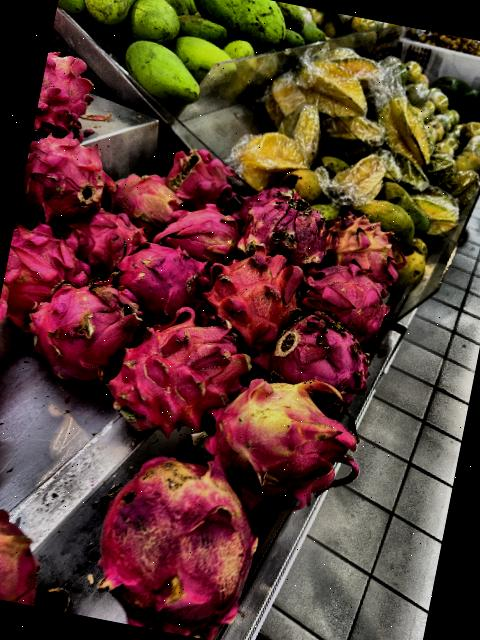buah-naga-belum-matang: (77, 442, 269, 636), (207, 360, 374, 516), (316, 213, 417, 289), (0, 482, 60, 606), (160, 204, 246, 263), (109, 166, 186, 228)
buah-naga-matang: (114, 302, 261, 436), (26, 272, 156, 406), (15, 125, 130, 234), (266, 307, 385, 409), (290, 256, 403, 346), (202, 242, 300, 342), (1, 223, 94, 310), (119, 243, 216, 314), (243, 189, 328, 263), (33, 51, 100, 142), (165, 144, 238, 210), (74, 200, 148, 264)
